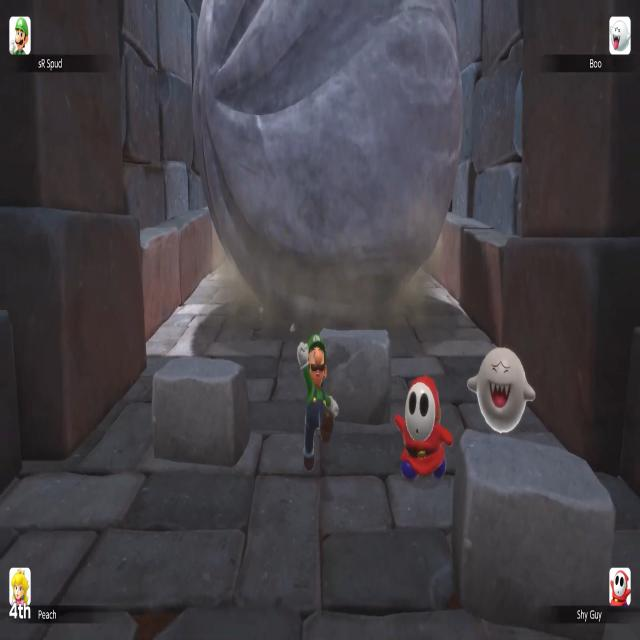Boo: (468, 347, 536, 433)
Luigi: (297, 336, 339, 473)
Shy Guy: (395, 376, 453, 483)
obstacle: (452, 430, 617, 640), (152, 358, 252, 468), (317, 328, 390, 424)
rolling stone: (193, 0, 463, 325)
